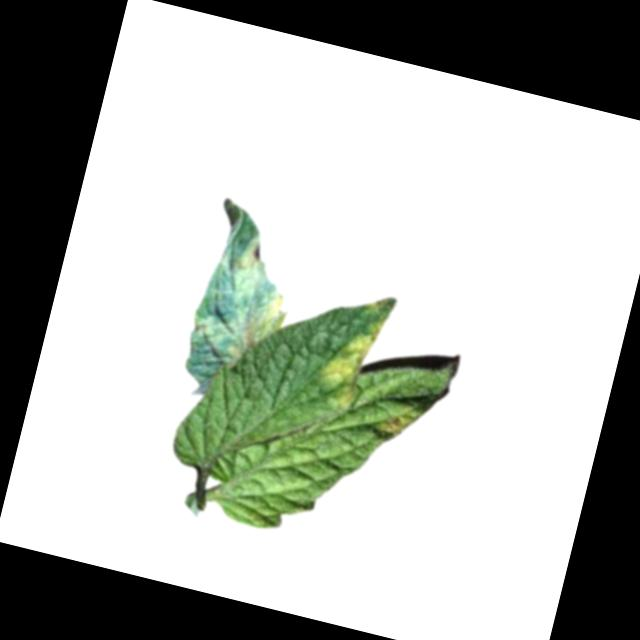Leaf_Mold: (314, 284, 386, 413), (220, 283, 291, 375), (228, 231, 270, 287), (370, 407, 412, 445)
